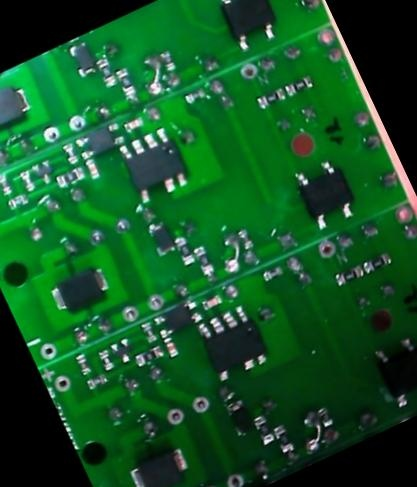chip-capacitor: (82, 156, 103, 182), (120, 113, 145, 134), (198, 292, 223, 312), (162, 335, 179, 358)
chip-resistor: (51, 163, 86, 191), (252, 83, 287, 111), (248, 411, 276, 446), (130, 342, 165, 369), (281, 71, 315, 98), (331, 261, 365, 288), (360, 249, 394, 276), (171, 232, 196, 268), (270, 422, 296, 456), (112, 64, 138, 97), (93, 55, 118, 89), (189, 243, 214, 276), (83, 369, 109, 392), (136, 318, 159, 344), (95, 345, 116, 373), (157, 47, 179, 73), (58, 140, 80, 166), (181, 85, 207, 107), (16, 168, 37, 194), (72, 351, 93, 377), (258, 262, 284, 283), (4, 191, 29, 212), (314, 404, 334, 429), (235, 225, 254, 250), (0, 171, 14, 197)
diode: (45, 261, 113, 319), (124, 441, 194, 487), (0, 78, 34, 137), (64, 37, 99, 79), (143, 217, 177, 259), (221, 397, 255, 439)
ic: (190, 298, 274, 386), (114, 122, 195, 207), (289, 153, 363, 234), (210, 0, 285, 56), (369, 331, 417, 411), (150, 296, 204, 340), (72, 119, 126, 162)
transistor: (105, 334, 137, 367), (27, 154, 57, 187)
